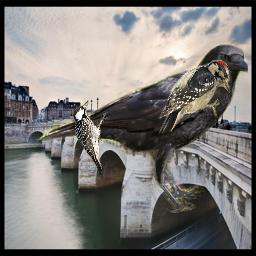Crow: (33, 43, 248, 213)
Woodpecker: (152, 59, 230, 137), (73, 100, 110, 180)
